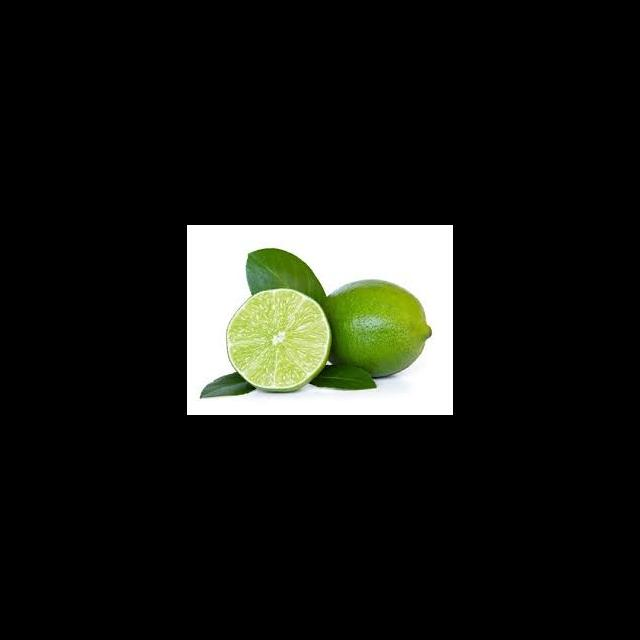lime: (222, 286, 333, 396), (322, 276, 433, 380)
